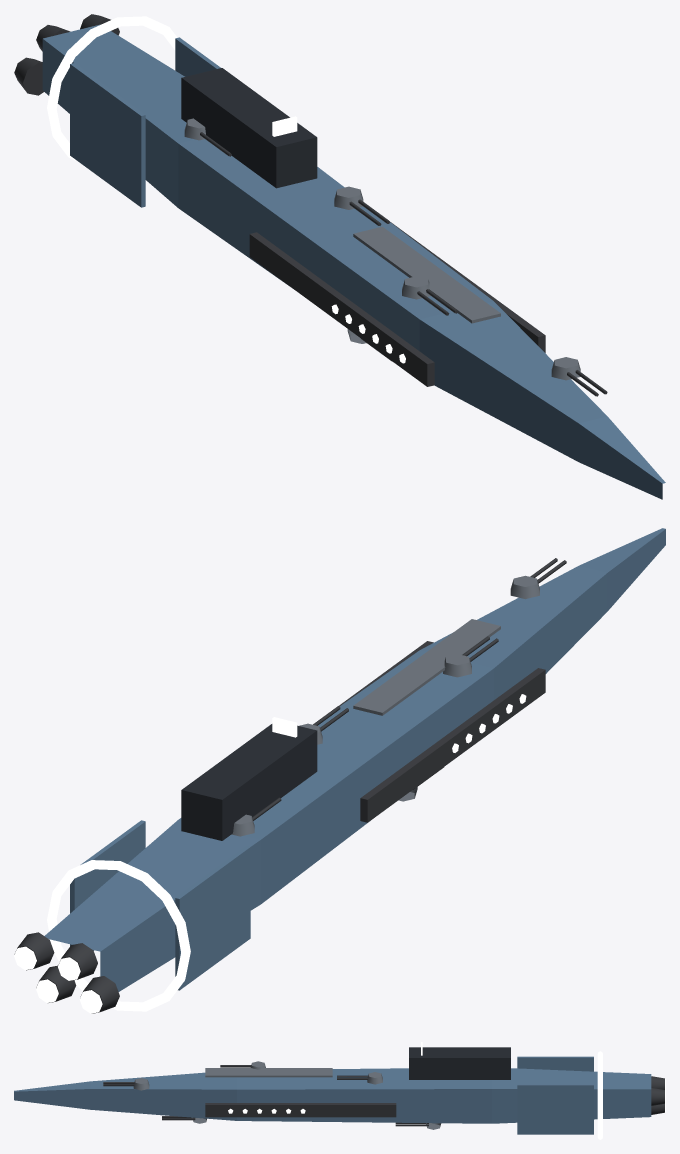
Rendered from space_ship_destroyer_mk6.glb.
3 views of the same model, one above another, from view 1: azimuth 30°, elevation 25°; view 2: azimuth 150°, elevation 25°; view 3: azimuth 270°, elevation 25° (orthographic). The views are drawn at different scales.
Parts seen in each view (by area): view 1: body, engine_0, turret_0, turret_4, turret_2; view 2: body, engine_3, engine_0, engine_1, engine_2, turret_0, turret_2; view 3: body, turret_0, turret_4, engine_3, turret_5, turret_1, turret_2, engine_1.
Part boxes in pixels (<box>): body: <box>42,16,665,499</box>; engine_0: <box>14,57,43,95</box>; turret_0: <box>551,357,607,396</box>; turret_4: <box>334,186,389,225</box>; turret_2: <box>402,276,457,315</box>; body: <box>44,528,665,1011</box>; engine_3: <box>14,932,54,970</box>; engine_0: <box>79,976,119,1013</box>; engine_1: <box>58,943,97,980</box>; engine_2: <box>36,965,76,1002</box>; turret_0: <box>510,558,566,599</box>; turret_2: <box>443,636,498,677</box>; body: <box>14,1042,651,1139</box>; turret_0: <box>103,1078,149,1090</box>; turret_4: <box>337,1072,382,1084</box>; engine_3: <box>651,1087,665,1105</box>; turret_5: <box>395,1122,441,1129</box>; turret_1: <box>162,1116,206,1123</box>; turret_2: <box>220,1061,265,1069</box>; engine_1: <box>651,1076,665,1090</box>.
Size of what is drawn, in the model's own units: 9.8 by 11.05 by 72.02.
